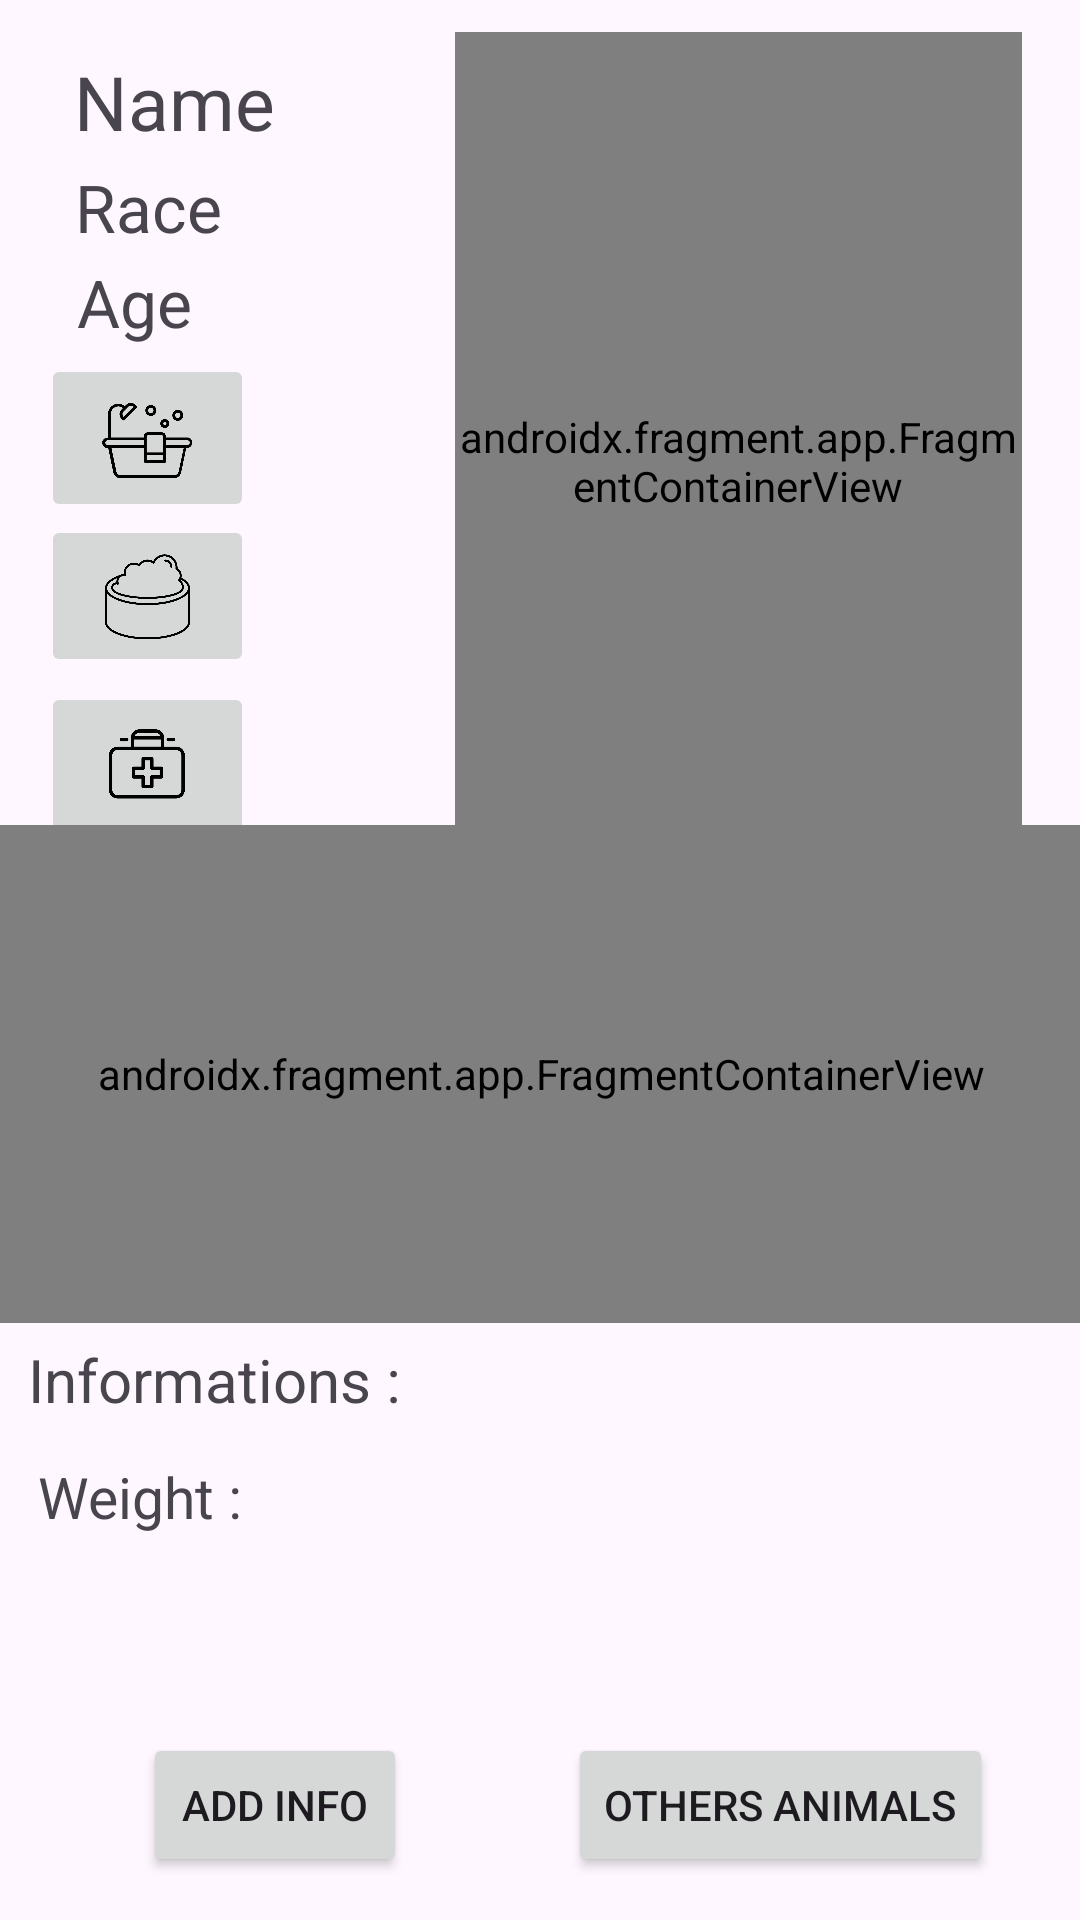

Where to tap for icons on this 1080px x 1920px app screen, as (x,y):
bath: (147,438)
medical: (147,775)
pet food: (147,596)
